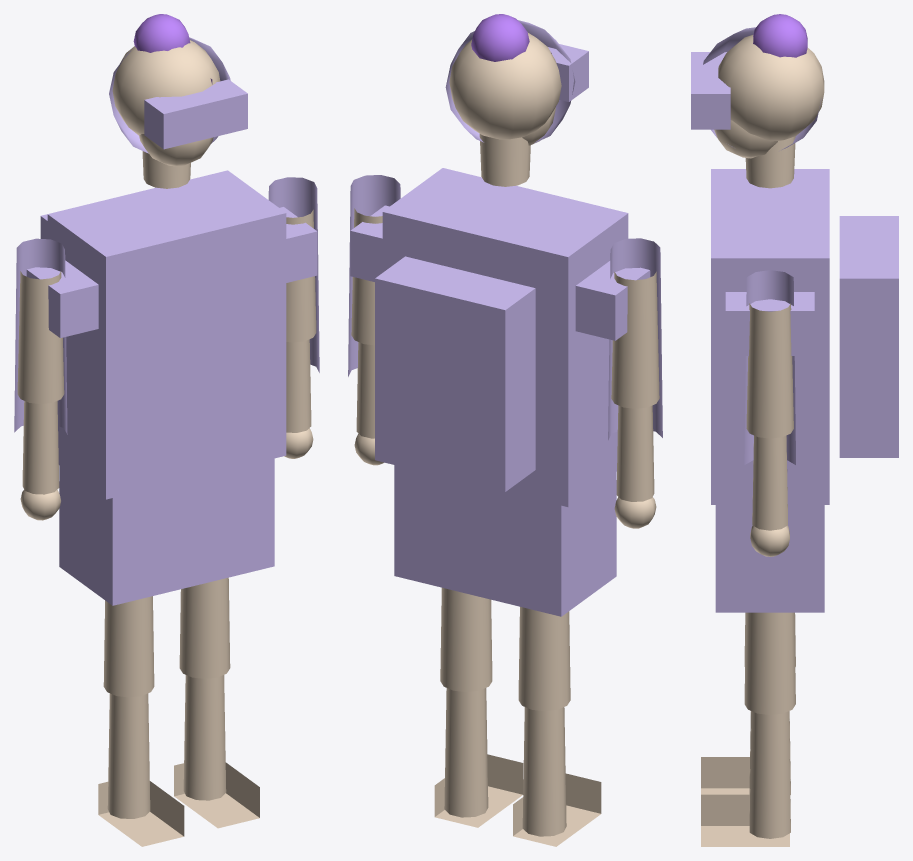
The model's file is body.glb.
3 renders of one model, left to right at view 1: azimuth 30°, elevation 25°; view 2: azimuth 150°, elevation 25°; view 3: azimuth 270°, elevation 25°, orthographic. The views are drawn at different scales.
Parts seen in each view (by area): view 1: Metal, Skin, Hair; view 2: Metal, Skin, Hair; view 3: Metal, Skin, Hair.
Boxes of the visible parts, x1,y1,x2,y2 form: Metal: [14, 37, 319, 605]; Skin: [17, 40, 316, 846]; Hair: [133, 14, 212, 84]; Metal: [348, 20, 662, 616]; Skin: [351, 32, 659, 846]; Hair: [471, 14, 551, 61]; Metal: [691, 27, 898, 612]; Skin: [701, 35, 824, 846]; Hair: [753, 14, 807, 57].
Size of the model in its own units: 0.7084 by 1.79 by 0.42.
